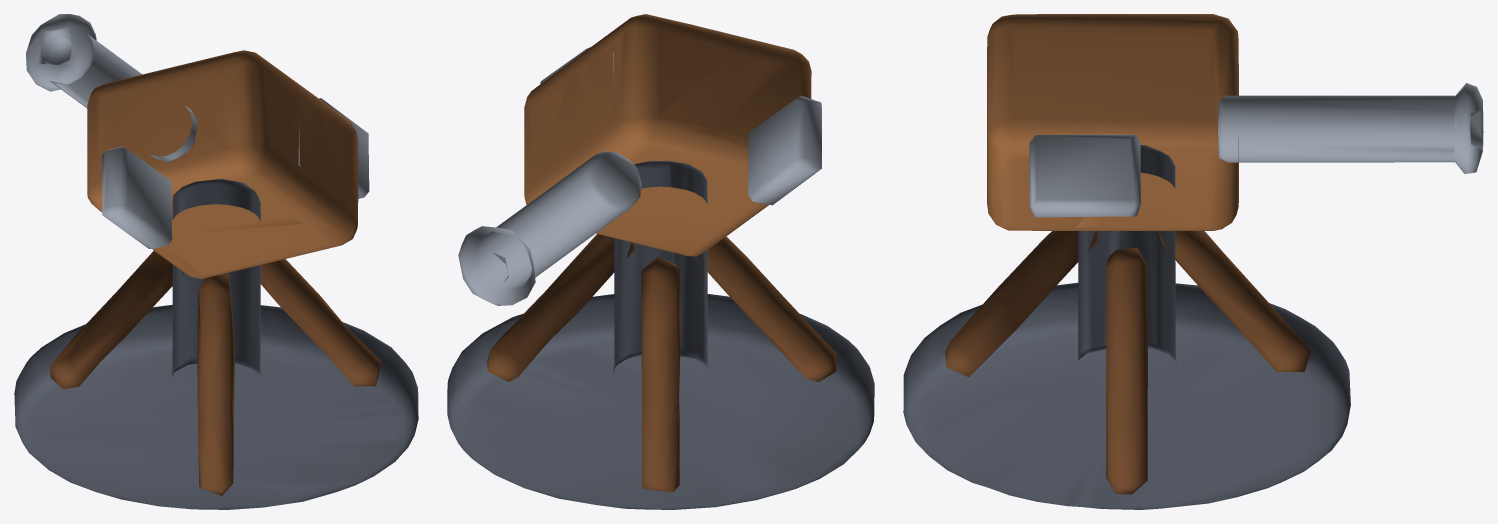
File: build_turret.glb
3 views of the same model, side by side, from view 1: azimuth 30°, elevation 25°; view 2: azimuth 150°, elevation 25°; view 3: azimuth 270°, elevation 25° (orthographic). The views are drawn at different scales.
Parts seen in each view (by area): view 1: body, head; view 2: body, head; view 3: body, head.
Boxes of the visible parts, bbox=[...] form: body: bbox=[14, 178, 418, 509]; head: bbox=[26, 14, 369, 279]; body: bbox=[447, 160, 874, 509]; head: bbox=[458, 14, 821, 305]; body: bbox=[903, 145, 1350, 509]; head: bbox=[987, 14, 1483, 230].
Size of the model in its own units: 3.2 by 2.9 by 4.15.
1 material, 1 textured.
